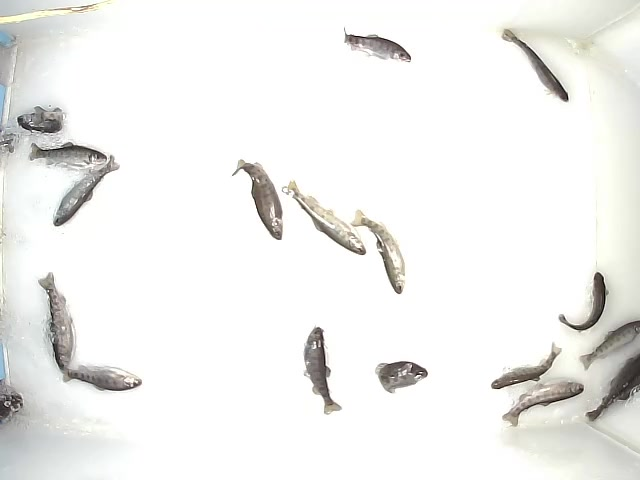fish: (282, 178, 371, 255), (50, 148, 125, 228), (501, 26, 571, 103), (350, 208, 407, 294), (231, 157, 284, 242), (33, 272, 76, 375), (501, 381, 590, 428), (299, 323, 344, 415), (487, 340, 562, 394), (557, 268, 609, 334), (339, 26, 416, 63), (57, 361, 143, 392), (27, 141, 108, 168), (371, 358, 429, 393), (16, 100, 67, 135)
